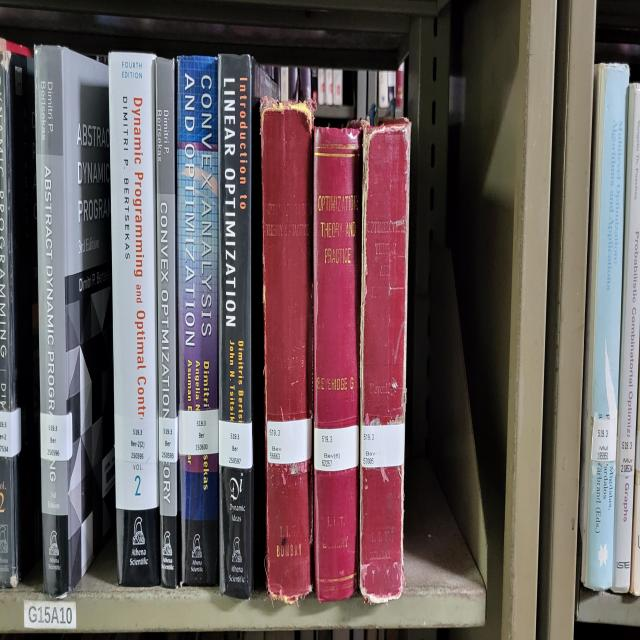Book: (34, 46, 115, 598), (219, 54, 276, 598), (109, 51, 160, 587), (261, 97, 312, 603), (360, 119, 411, 603), (314, 124, 362, 601), (176, 57, 219, 584), (155, 60, 179, 587)
Label: (266, 417, 311, 465), (314, 425, 359, 471), (361, 422, 405, 468), (179, 409, 219, 457), (219, 419, 252, 468), (40, 411, 72, 460), (159, 417, 178, 463)
